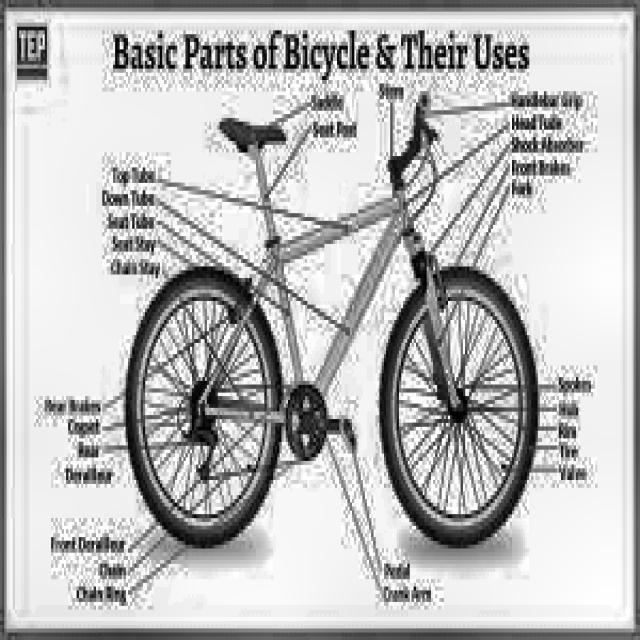bicycle: (119, 100, 540, 552)
